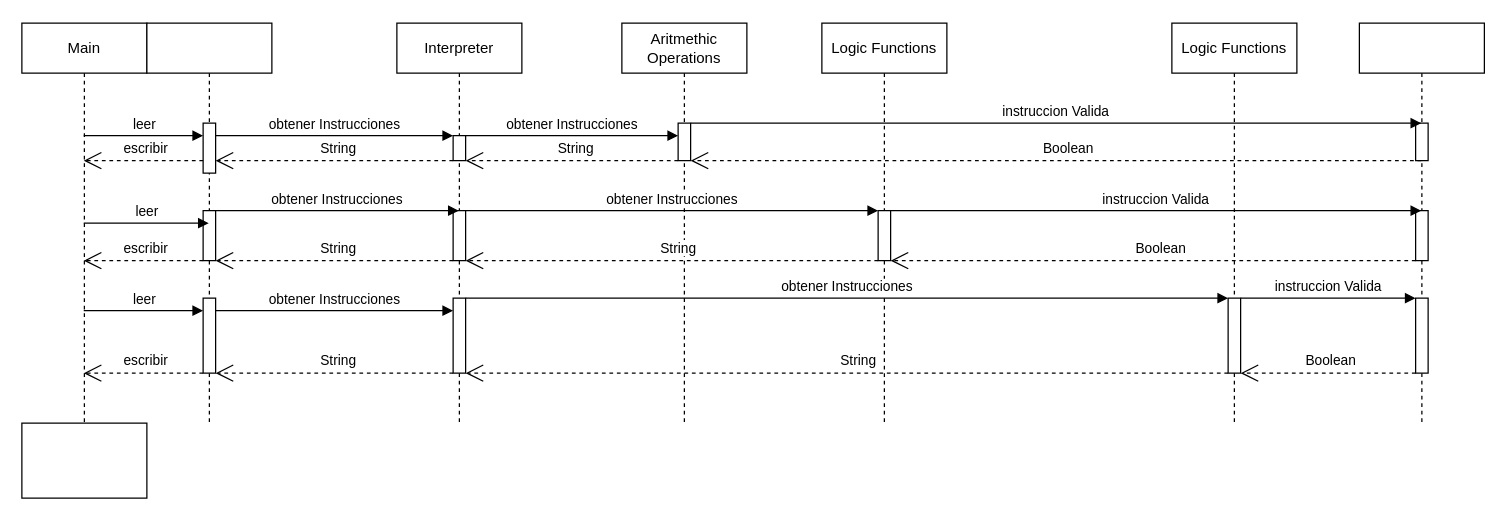
Image size: 1506x520. Some labels were removed from this diagram. Here are the shapes that lost their labels. From the top down, the centre of each, then its label:
[209,222]: Scaner
[1421,222]: Map Set List
[84,460]: Se mostrará si lo ingresado fue valido o no
